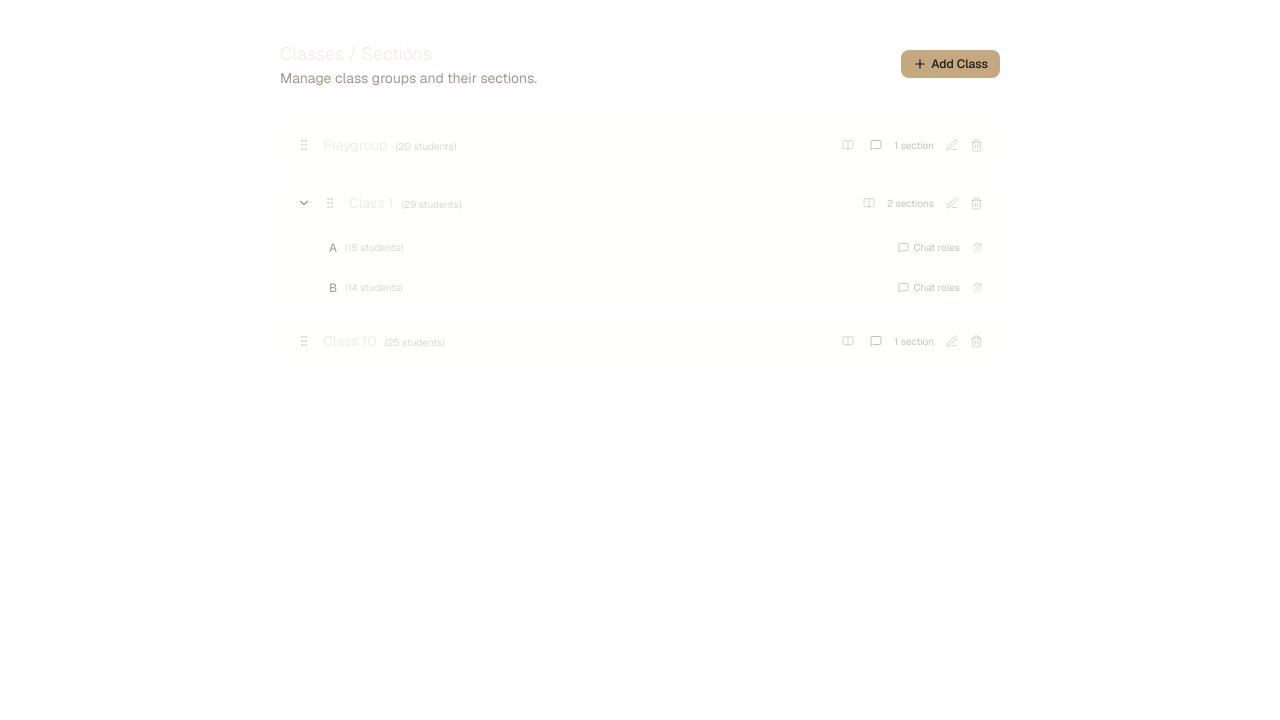
Test: ClassesPage — add class modal › cancels modal and resets form
The image size is (1280, 720).
Step 1. Click the button "Add Class" → (951, 64), box [901,50,1000,78]
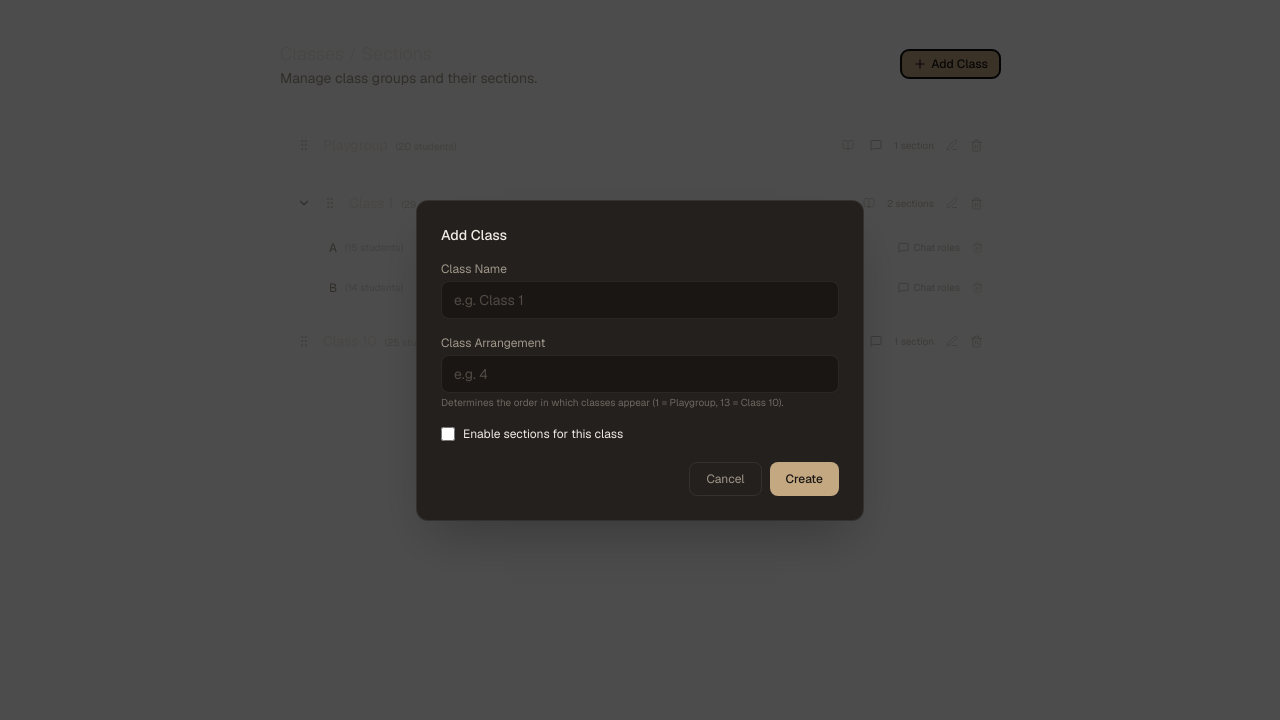
Step 2. Type "Test" into the field with placeholder "e.g. Class 1" → (640, 300), box [441,280,839,318]
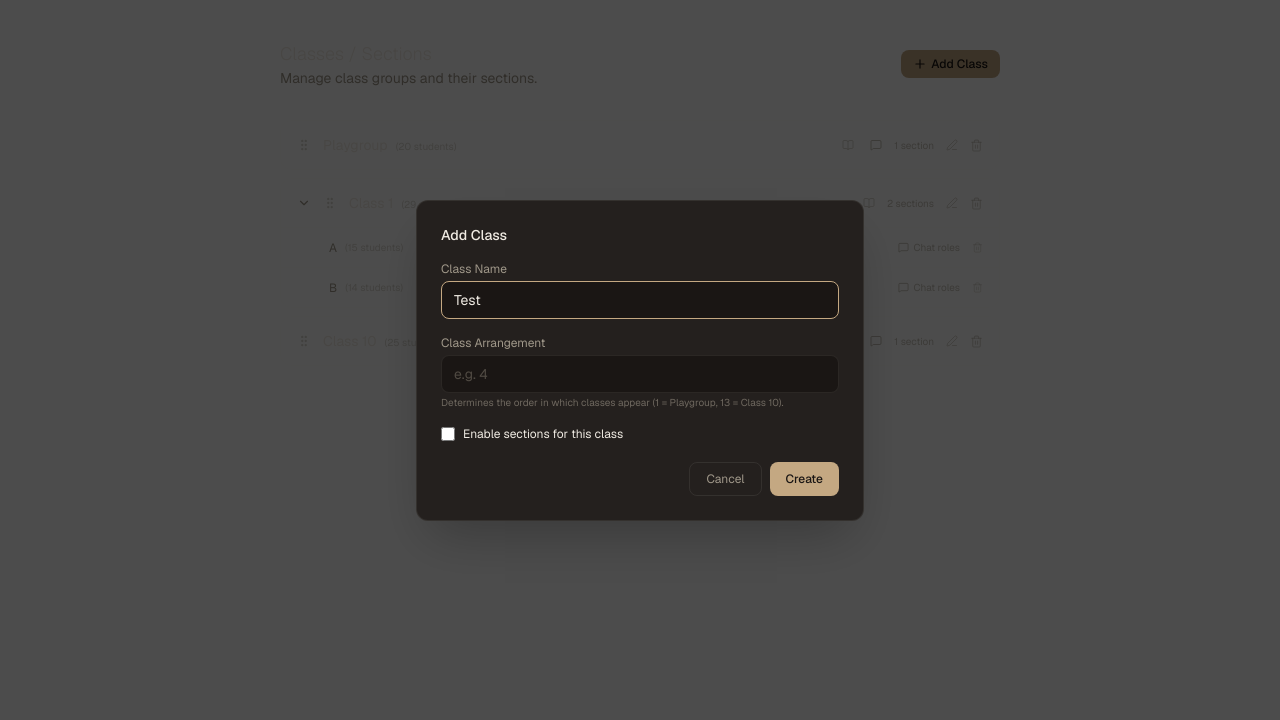
Step 3. Click the button "Cancel" → (725, 478), box [689,462,762,496]
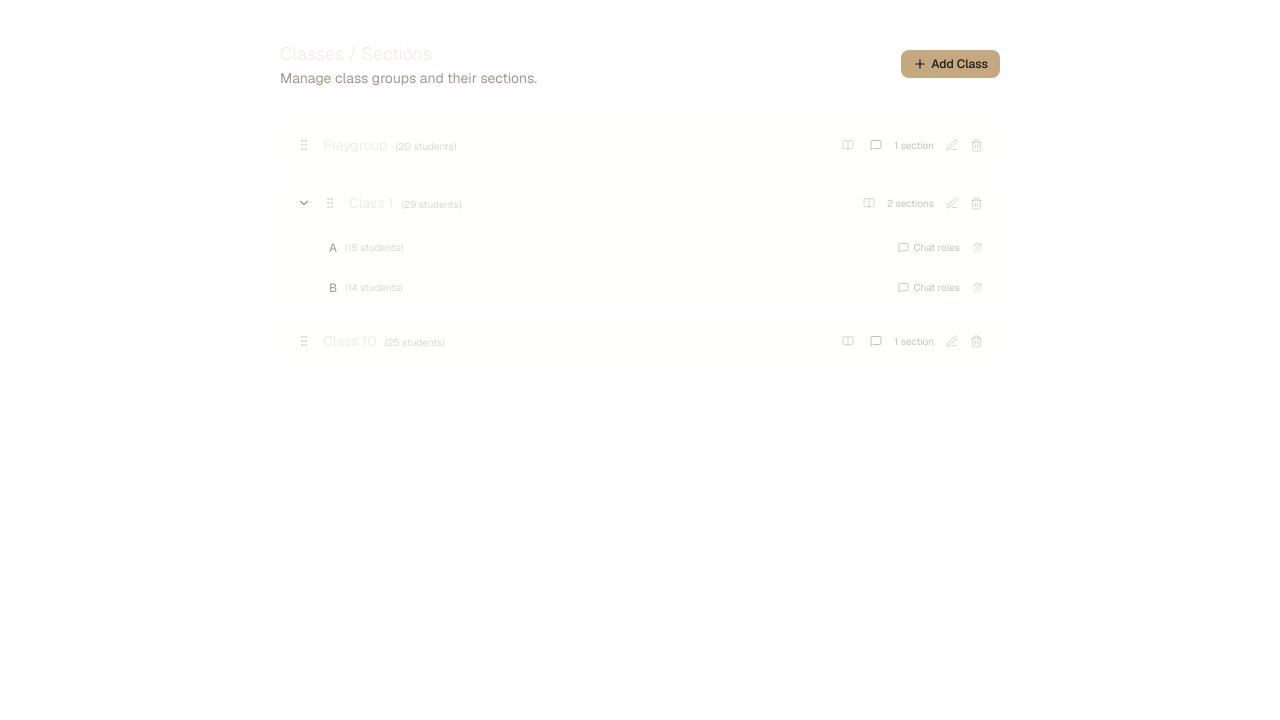
Expected: the text "Class Name" is gone
